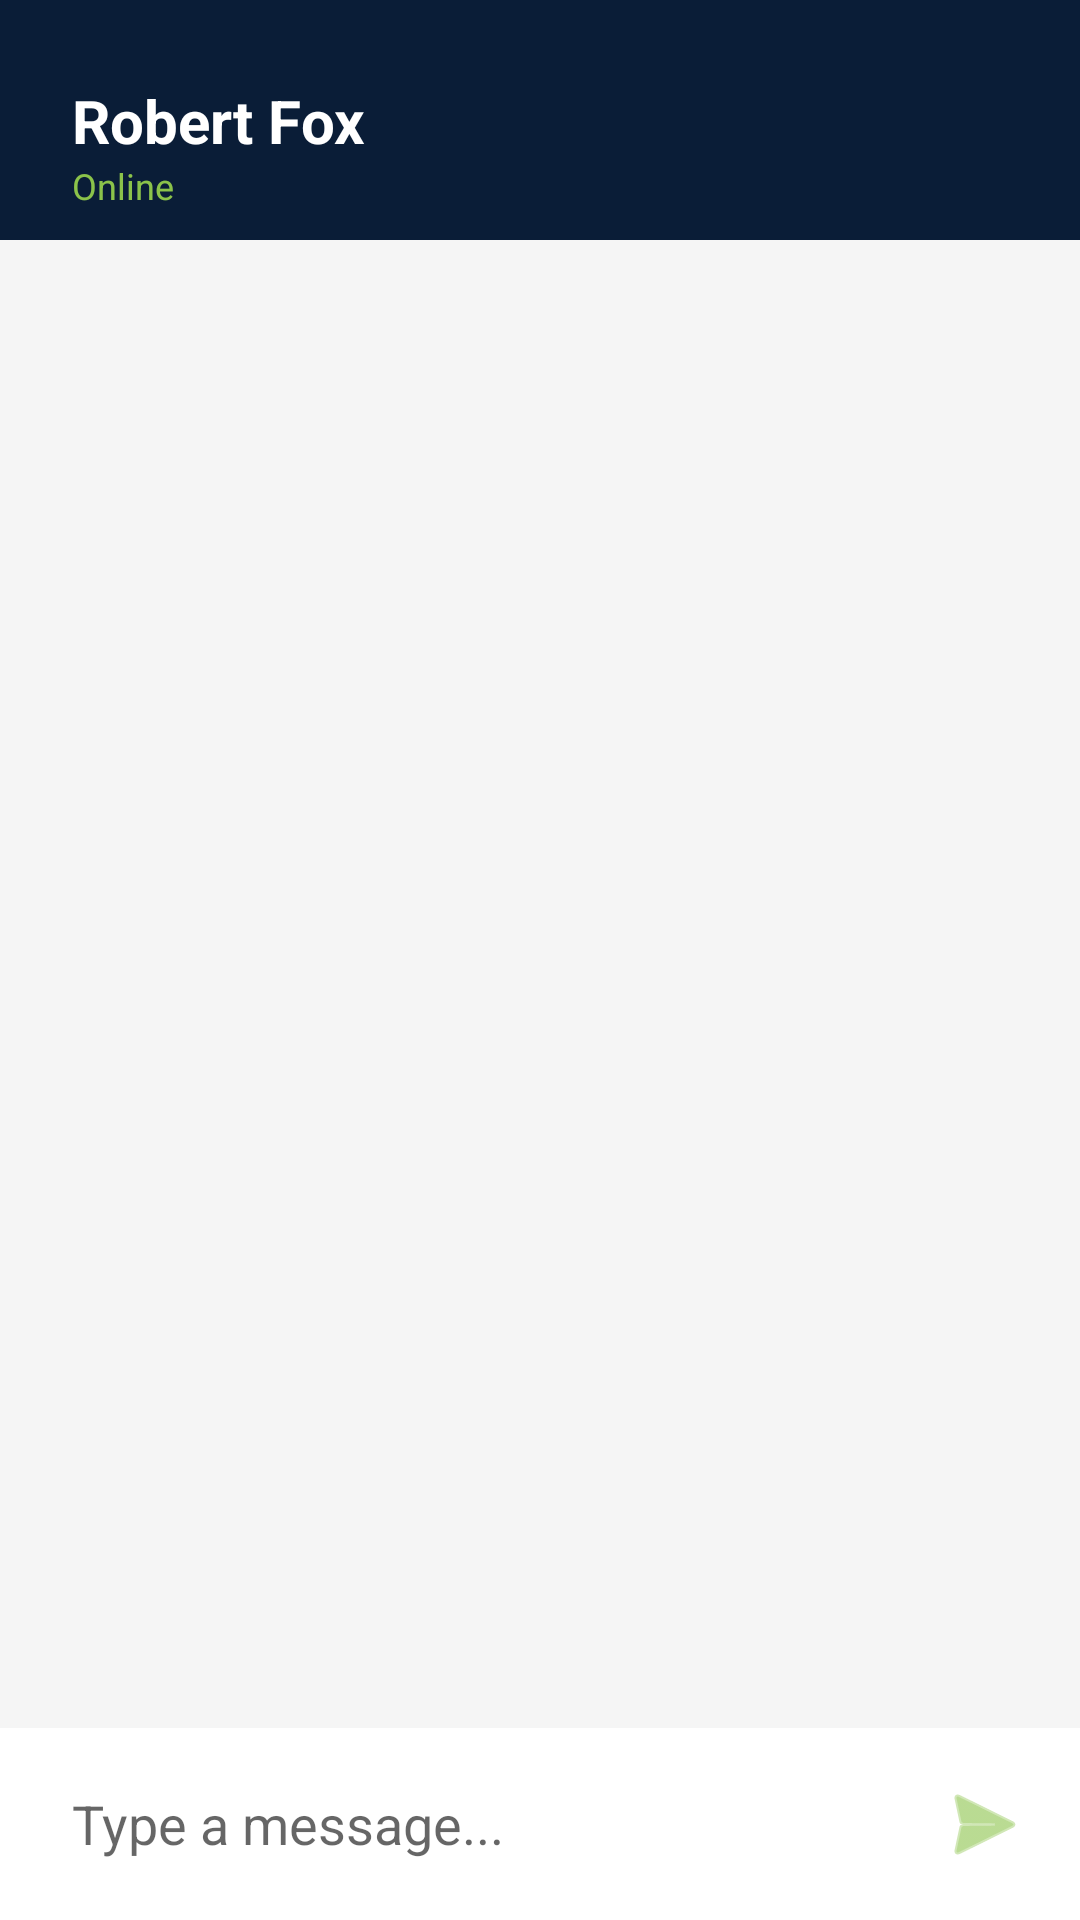

Screen size 1080px×1920px. Icon name, then its box in pixels as (x1, y1, x2, y2):
send: (954, 1794, 1015, 1855)
